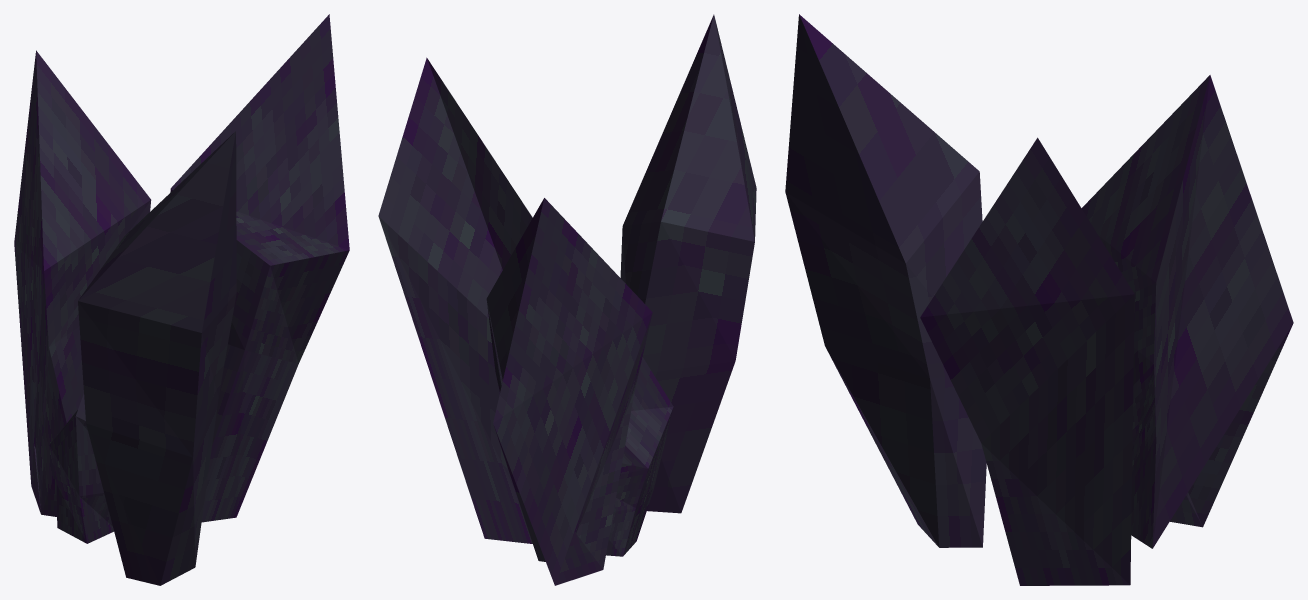
File: void_crystal.obj
3 renders of one model, left to right at view 1: azimuth 30°, elevation 25°; view 2: azimuth 150°, elevation 25°; view 3: azimuth 270°, elevation 25°, orthographic. The views are drawn at different scales.
Bounding box in the file's own units: 0.6588 × 0.992 × 0.8671.
